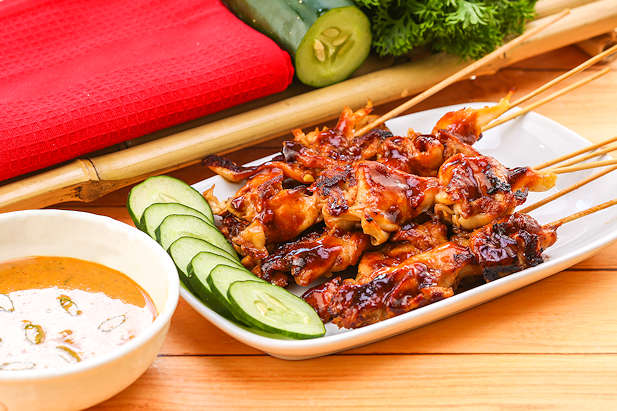sate: (168, 67, 593, 333)
